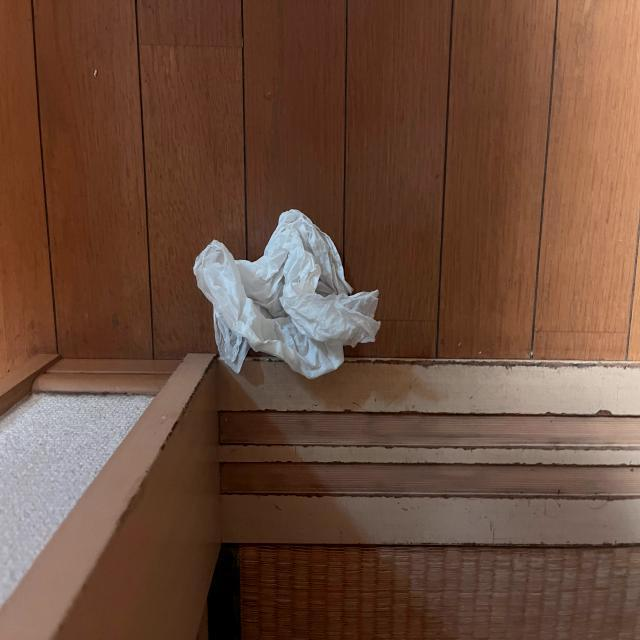Paper: (179, 199, 378, 380)
